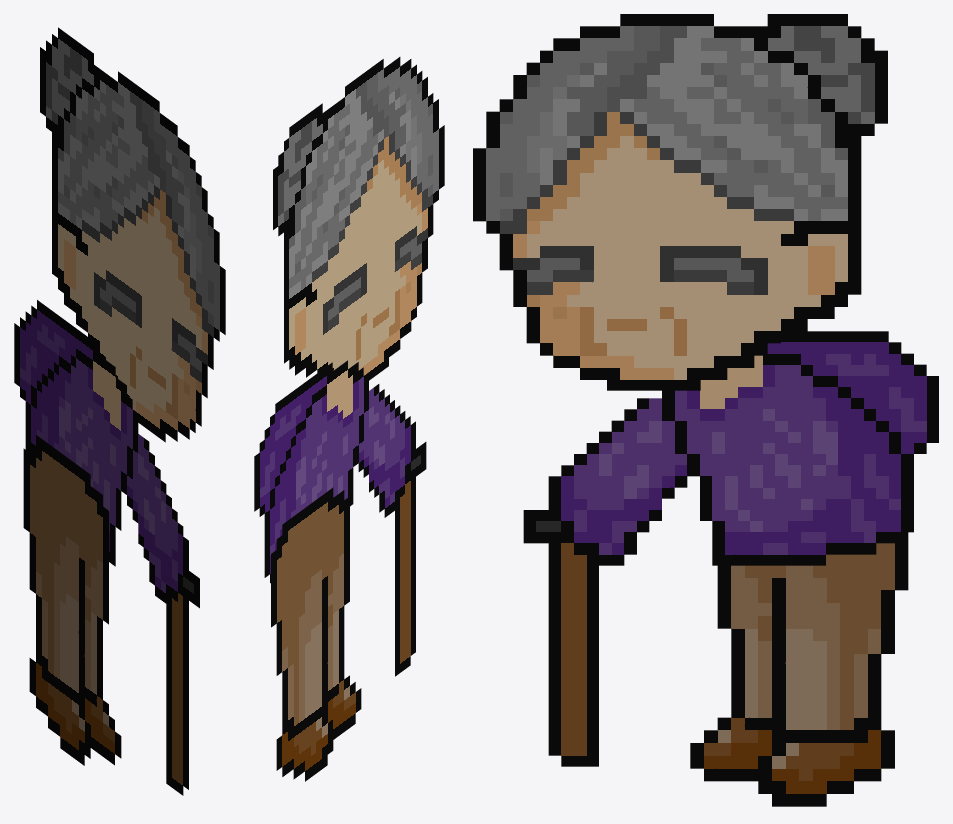
Rendered from obaba.fbx.
The picture shows the model from 3 angles, left to right: view 1: azimuth 30°, elevation 25°; view 2: azimuth 150°, elevation 25°; view 3: azimuth 270°, elevation 25°; orthographic projection. The views are drawn at different scales.
Visible parts, largest first — view 1: Plane; view 2: Plane; view 3: Plane.
Part boxes in pixels (<box>): Plane: <box>14,27,225,795</box>; Plane: <box>254,57,444,781</box>; Plane: <box>473,14,938,806</box>.
Size of the model in its own units: 4.53 by 425 by 224.
Materials: 1 (1 with a texture image).
